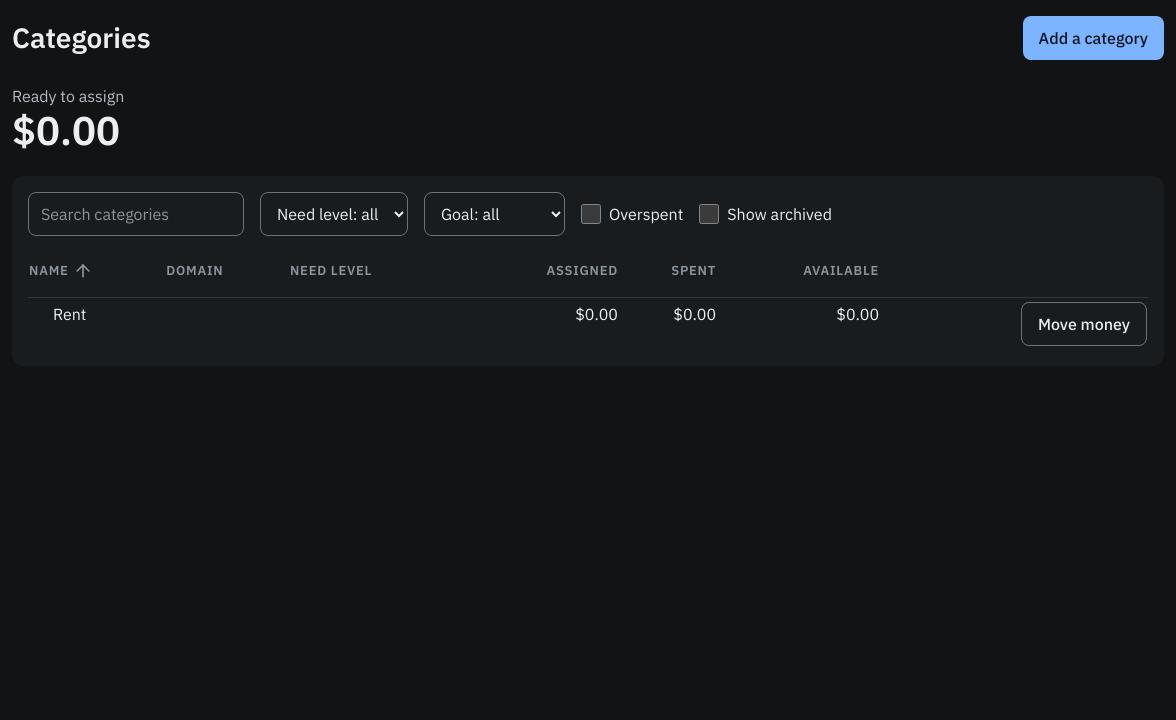
Test: Edit (#168) › opens in a side panel titled with the name, and brings it into view
Click the row "Rent $0.00 $0.00 $0.00 Move money": (588, 324) top-left (28, 298), bottom-right (1148, 350)
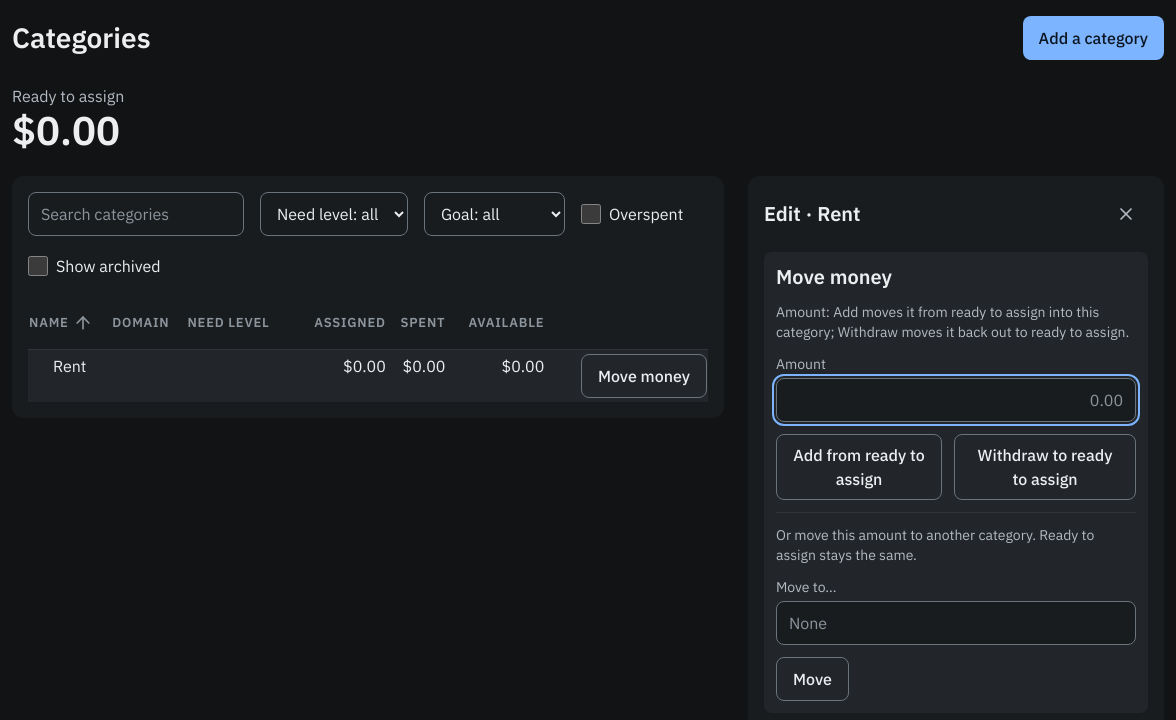
Expected: the heading "Edit · Rent" is shown, top-left (764, 201), bottom-right (861, 227)
